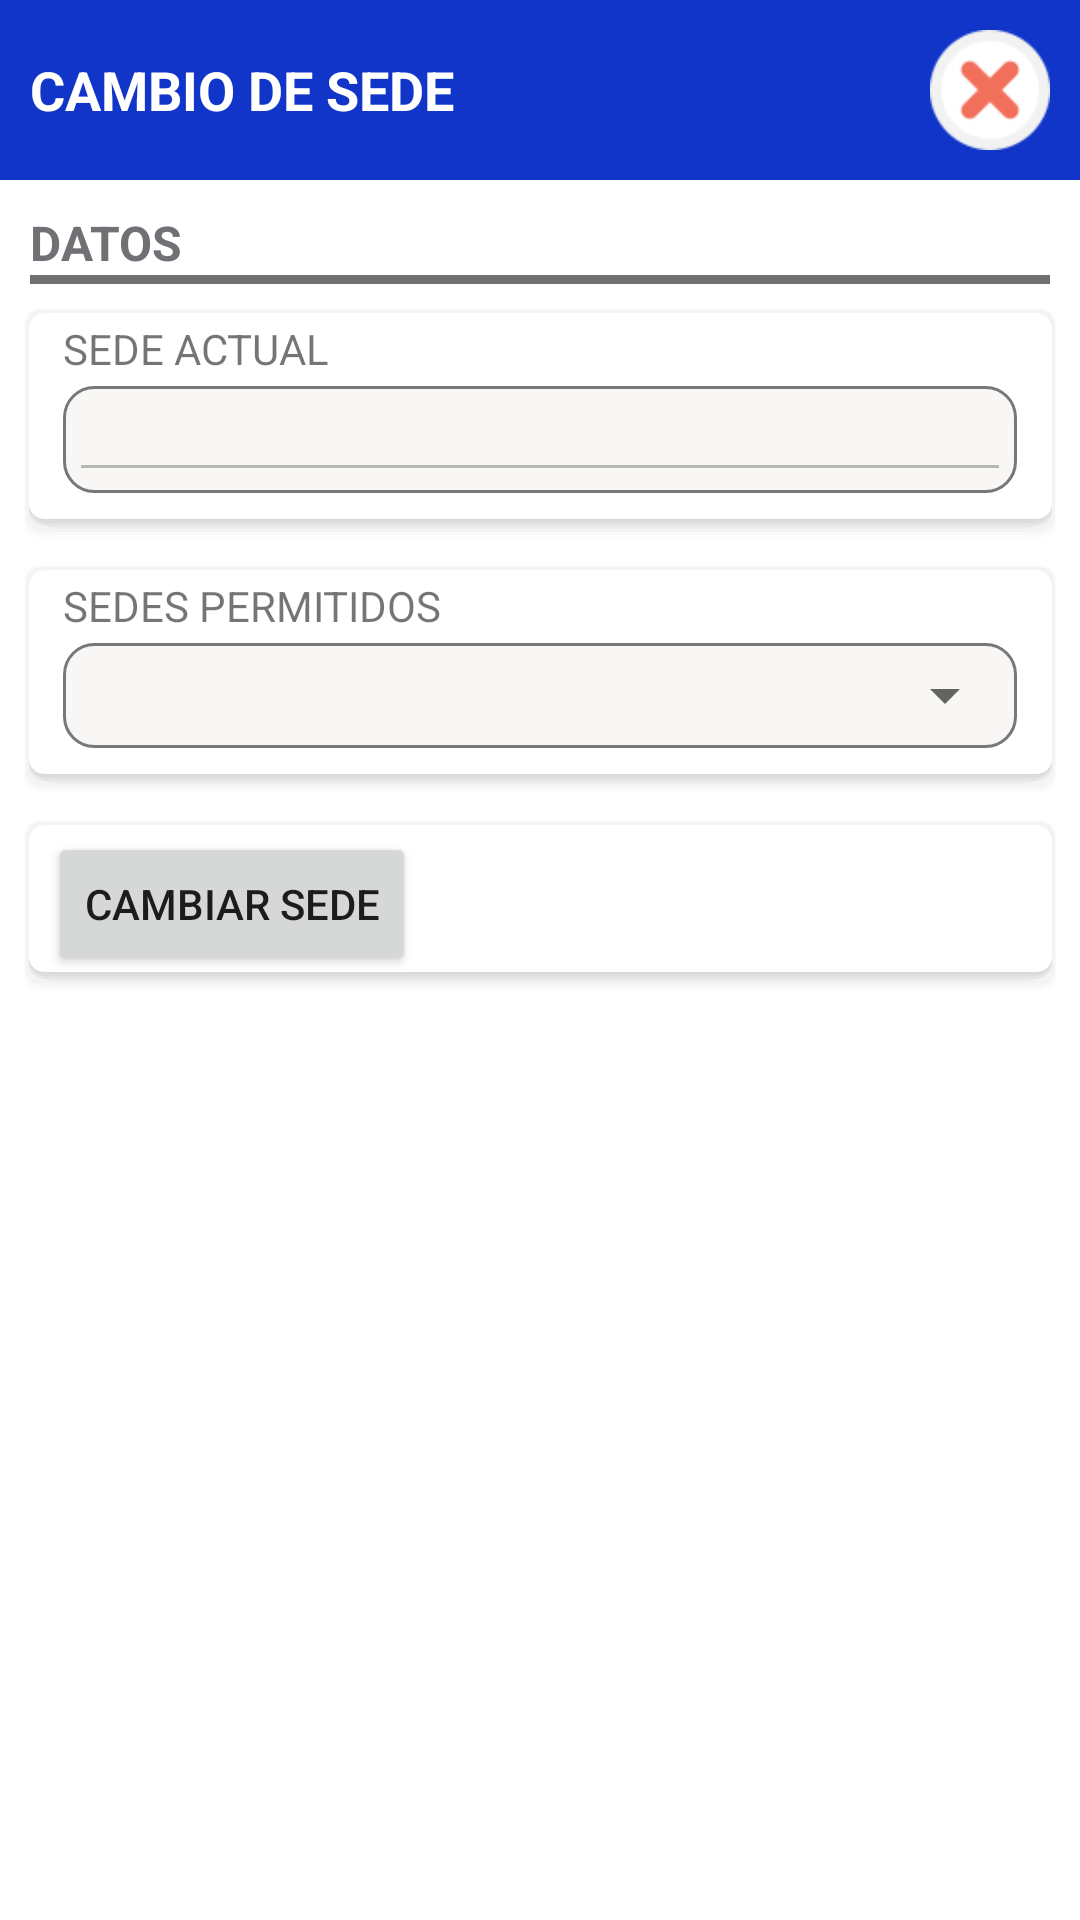

Named icons in this screenshot (1080×1920) and their centers, (x=x, y=y):
cancel: (x=990, y=90)
